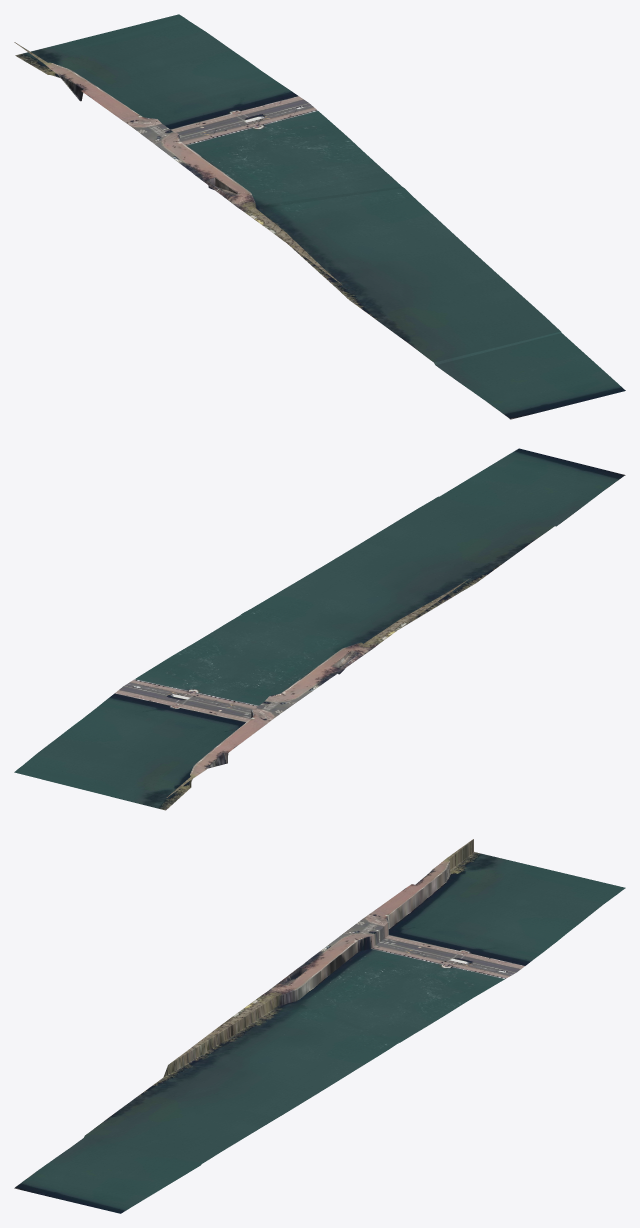
The model's file is gml_8bf87428-0e6e-485c-894d-eebcb42a5e76.gltf.
3 renders of one model, top to bottom at view 1: azimuth 30°, elevation 25°; view 2: azimuth 150°, elevation 25°; view 3: azimuth 330°, elevation 25°, orthographic. The views are drawn at different scales.
Parts seen in each view (by area): view 1: Z_UP; view 2: Z_UP; view 3: Z_UP.
Part boxes in pixels (x1=…): Z_UP: x1=14, y1=14, x2=625, y2=419; Z_UP: x1=14, y1=448, x2=625, y2=810; Z_UP: x1=14, y1=839, x2=625, y2=1213.
Size of the model in its own units: 99.46 by 9.89 by 500.
Materials: 1 (1 with a texture image).
